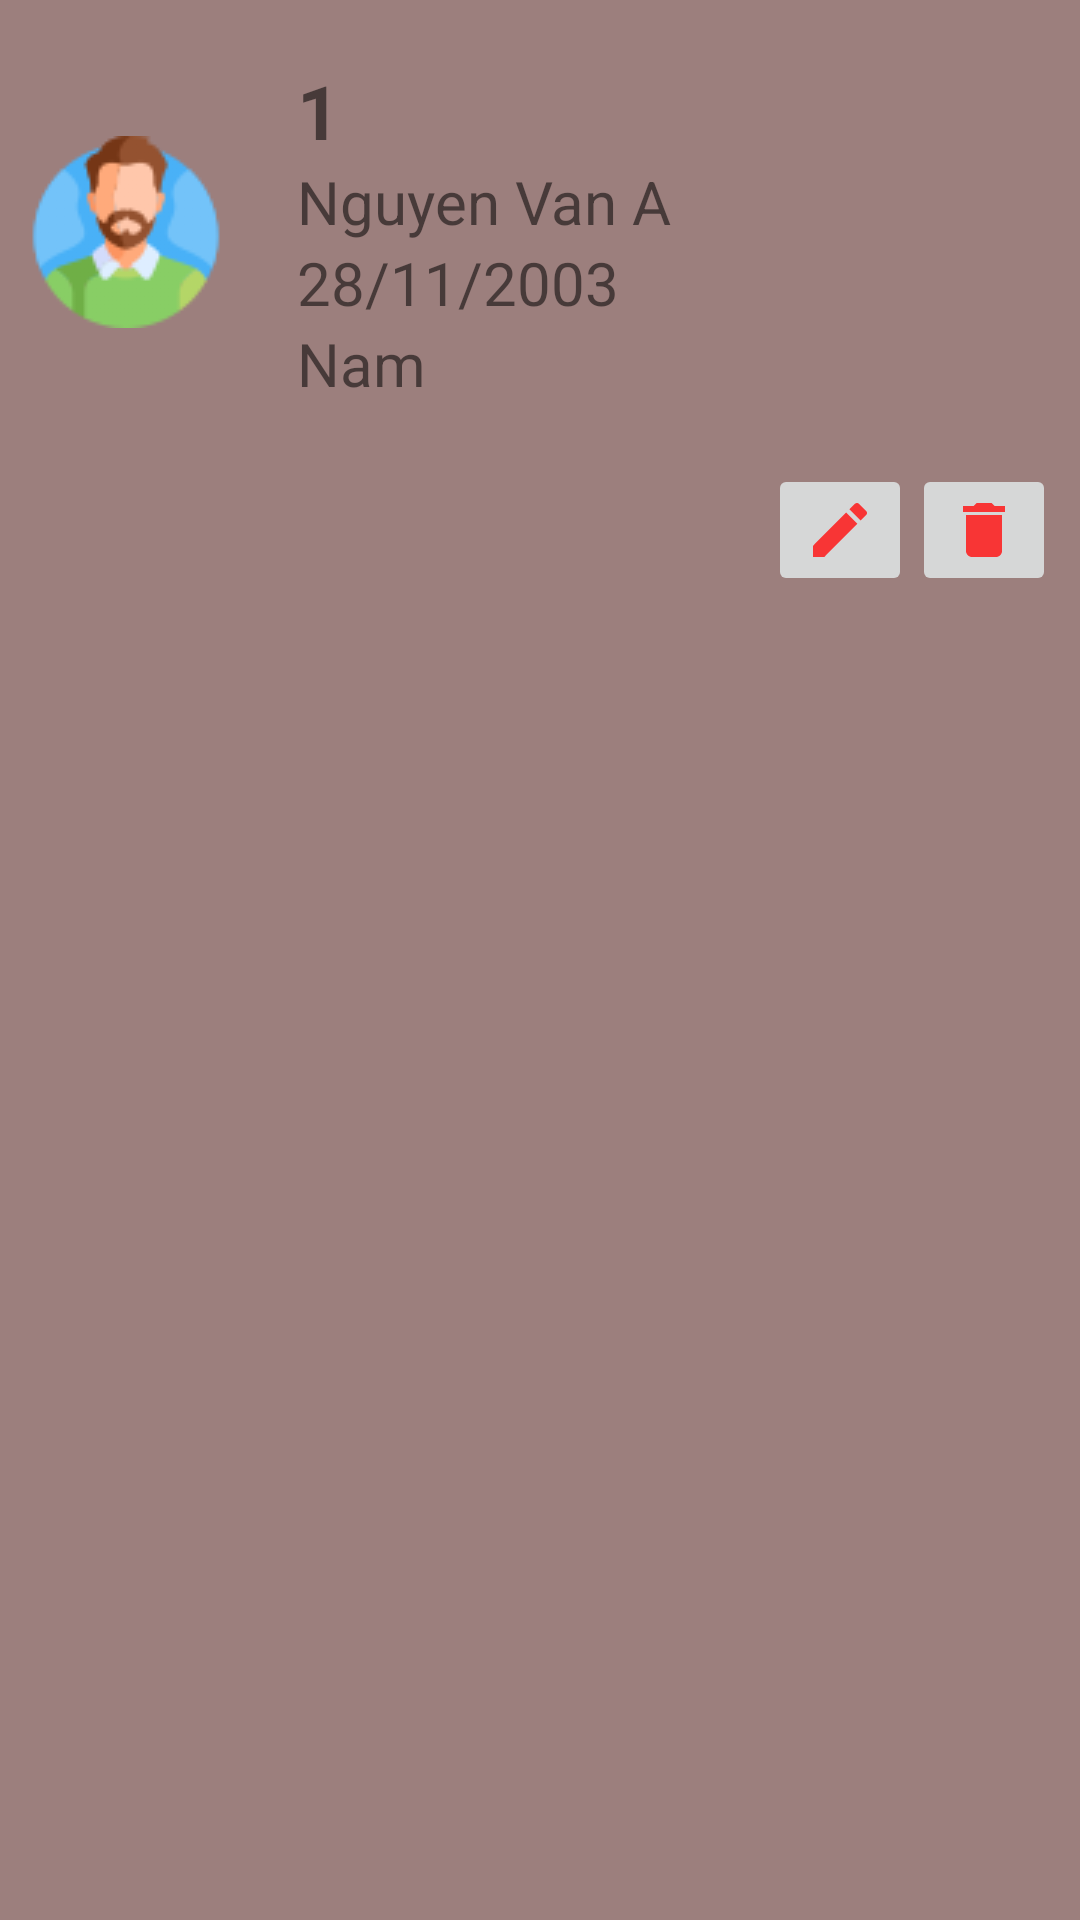

Point at icon controls on the screen. Image size 1080w x 1920h, points as point (x, y).
man: point (126, 232)
sua: point (840, 530)
xoa: point (984, 530)
